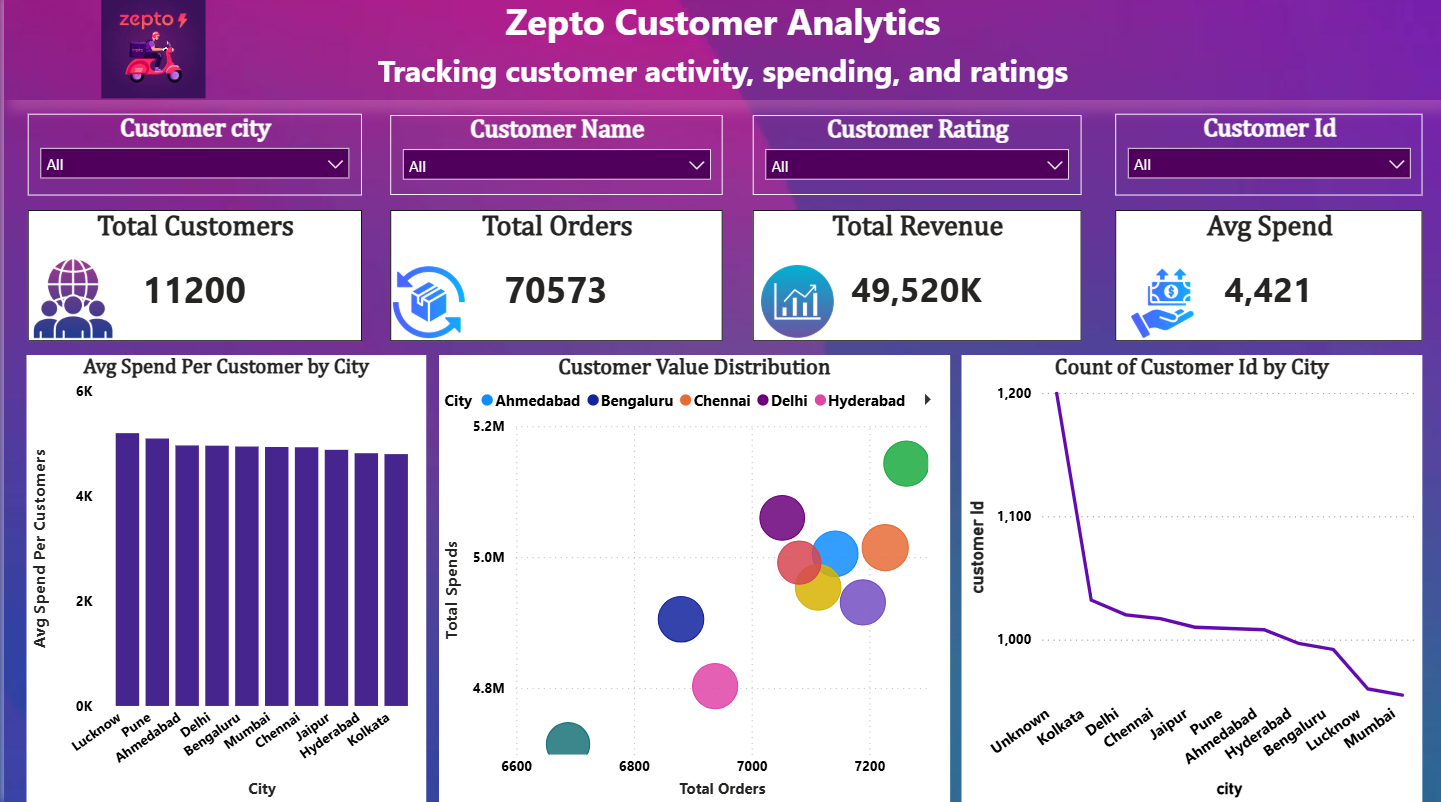

What the dashboard file says about the page in this screenshot:
{"tool":"powerbi","page":{"name":"customer analytics","canvas":[1280,720],"ordinal":0},"visuals":[{"type":"textbox","title":"Zepto Customer Analytics","box":[0,1.2,1280.2,92.1],"z":0},{"type":"image","box":[31.9,0,201.5,92.1],"z":1000},{"type":"slicer","title":"Customer city","fields":{"Values":["zepto vw_customer_summary.city"]},"box":[20.9,105.7,297.3,72.5],"z":2000},{"type":"slicer","title":"Customer Name","fields":{"Values":["zepto vw_customer_summary.customer_name"]},"box":[344,106.9,296.1,71.3],"z":3000},{"type":"slicer","title":"Customer Rating","fields":{"Values":["zepto vw_customer_summary.avg_rating"]},"box":[667.2,106.9,292.4,71.3],"z":4000},{"type":"slicer","title":"Customer Id","fields":{"Values":["zepto vw_customer_summary.customer_id"]},"box":[989.1,105.7,274,72.5],"z":5000},{"type":"card","title":"Total Customers","fields":{"Values":["zepto vw_customer_summary.Total Customers"]},"box":[20.9,191.7,297.3,116.7],"z":6000},{"type":"card","title":"Total Orders","fields":{"Values":["zepto vw_customer_summary.Total Orders"]},"box":[344,191.7,296.1,116.7],"z":7000},{"type":"card","title":"Total Revenue","fields":{"Values":["zepto vw_customer_summary.Total Revenue"]},"box":[667.2,191.7,292.4,116.7],"z":8000},{"type":"card","title":"Avg Spend","fields":{"Values":["zepto vw_customer_summary.Avg Spend per Customer"]},"box":[989.1,191.7,274,116.7],"z":9000},{"type":"columnChart","title":"Avg Spend Per Customer by City","fields":{"Category":["zepto vw_customer_summary.city"],"Y":["zepto vw_customer_summary.Avg Spend per Customer"]},"box":[20.5,320.9,355.9,399.3],"z":10000},{"type":"lineChart","title":"Count of Customer Id by City","fields":{"Category":["zepto vw_customer_summary.city"],"Y":["CountNonNull(zepto vw_customer_summary.customer_id)"]},"box":[853,320.9,410.2,399.3],"z":11000},{"type":"scatterChart","title":"Customer Value Distribution","fields":{"X":["Sum(zepto vw_customer_summary.total_orders)"],"Y":["Sum(zepto vw_customer_summary.total_spent)"],"Size":["Sum(zepto vw_customer_summary.avg_rating)"],"Series":["zepto vw_customer_summary.city"]},"box":[387.3,320.9,454.8,399.3],"z":12000},{"type":"image","box":[20.5,230.4,80.8,78.4],"z":13000},{"type":"image","box":[343.8,241.3,68.8,63.9],"z":14000},{"type":"image","box":[658.7,240.1,95.3,65.1],"z":15000},{"type":"image","box":[989.3,243.7,84.5,61.5],"z":16000}]}

Visuals, with their boxes in screenshot pixels (x1, y1, x2, y2), scaled from the page's 1280x720 canvas onto the 1441x802 screenshot:
"Zepto Customer Analytics" textbox: left=0, top=1, right=1440, bottom=104
image: left=36, top=0, right=263, bottom=103
"Customer city" slicer: left=24, top=118, right=358, bottom=198
"Customer Name" slicer: left=387, top=119, right=721, bottom=198
"Customer Rating" slicer: left=751, top=119, right=1080, bottom=198
"Customer Id" slicer: left=1114, top=118, right=1422, bottom=198
"Total Customers" card: left=24, top=214, right=358, bottom=344
"Total Orders" card: left=387, top=214, right=721, bottom=344
"Total Revenue" card: left=751, top=214, right=1080, bottom=344
"Avg Spend" card: left=1114, top=214, right=1422, bottom=344
"Avg Spend Per Customer by City" columnChart: left=23, top=357, right=424, bottom=801
"Count of Customer Id by City" lineChart: left=960, top=357, right=1422, bottom=801
"Customer Value Distribution" scatterChart: left=436, top=357, right=948, bottom=801
image: left=23, top=257, right=114, bottom=344
image: left=387, top=269, right=464, bottom=340
image: left=742, top=267, right=849, bottom=340
image: left=1114, top=271, right=1209, bottom=340
